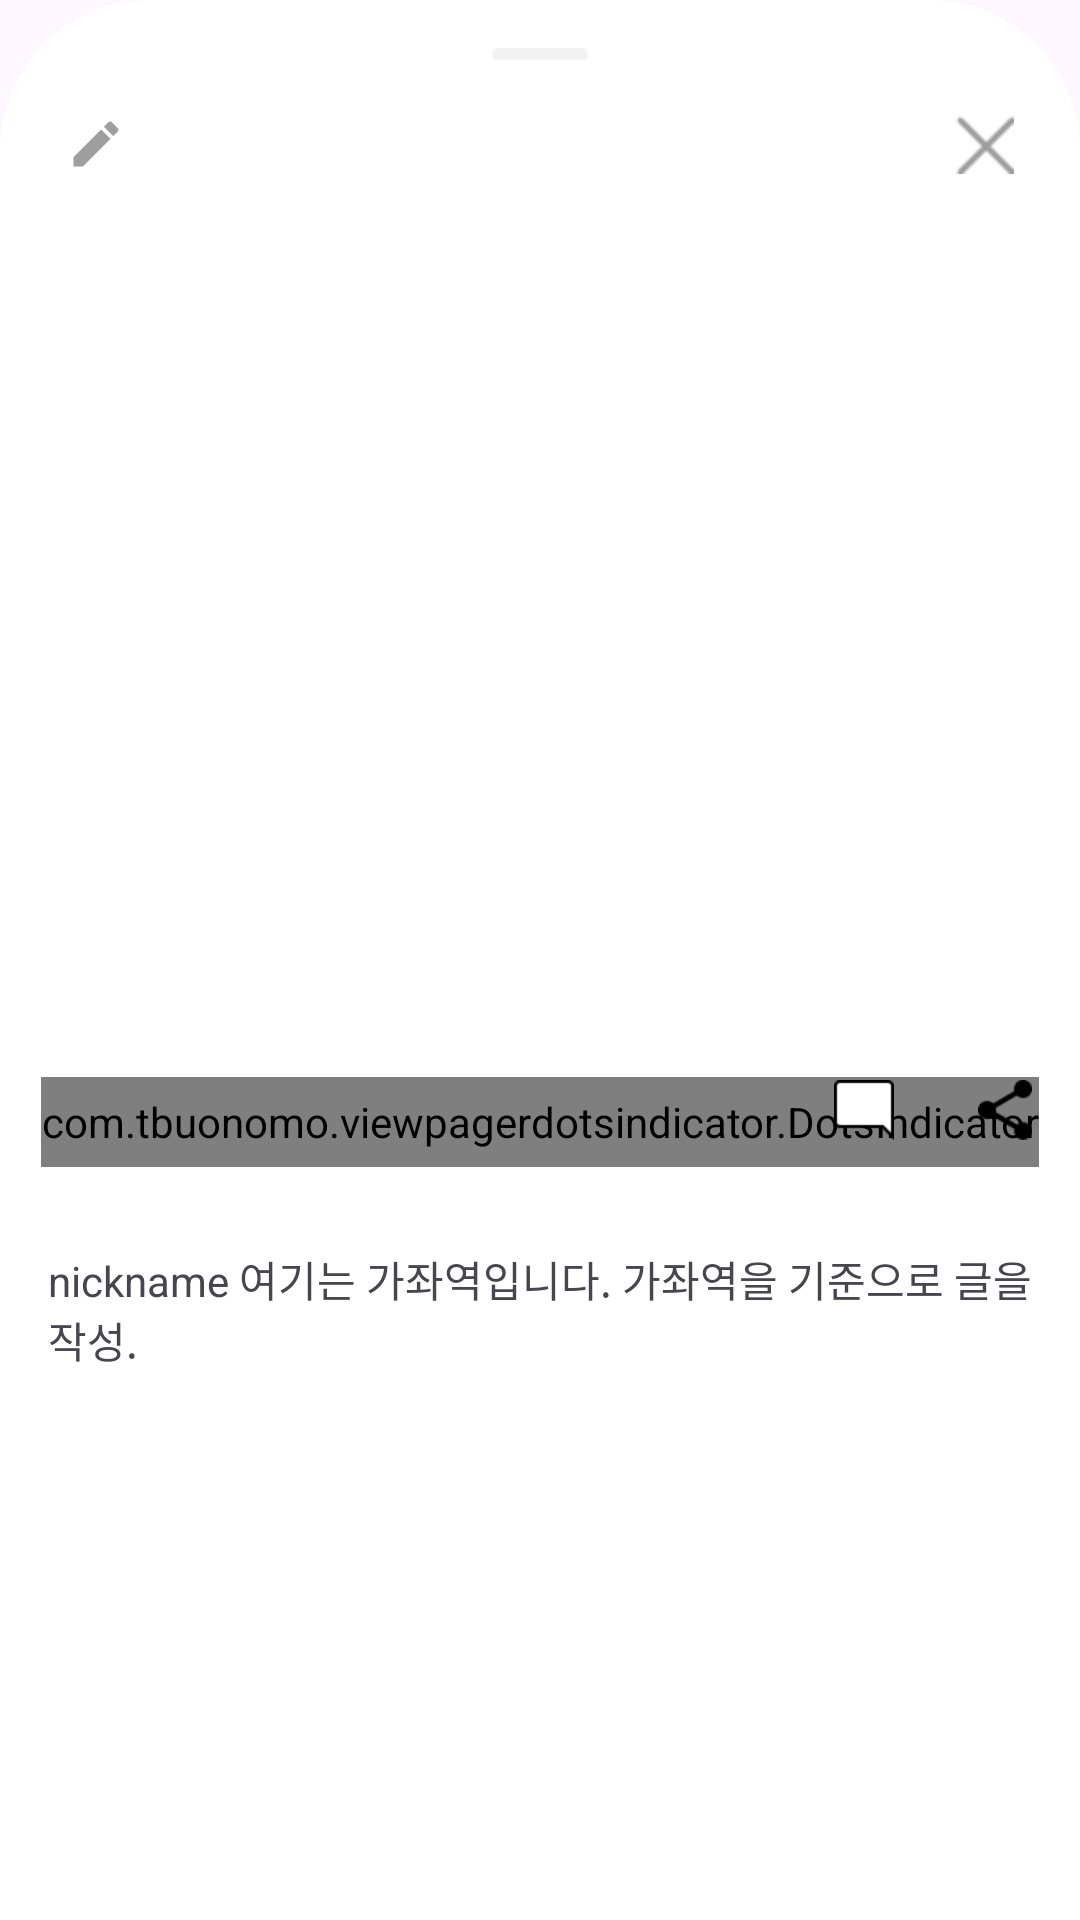

Icons on this 1080*1920 Android screen, each with its box as (x1=x1, y1=y1, x2=x2, y2=y2):
close: (x1=957, y1=117, x2=1014, y2=174)
edit: (x1=73, y1=121, x2=119, y2=167)
message: (x1=834, y1=1080, x2=894, y2=1140)
share: (x1=978, y1=1080, x2=1032, y2=1140)
